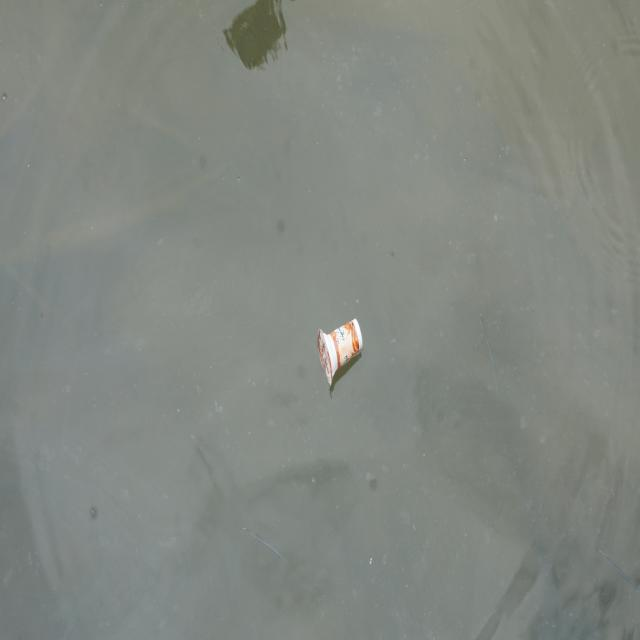Bungkus Minuman: (317, 314, 369, 386)
